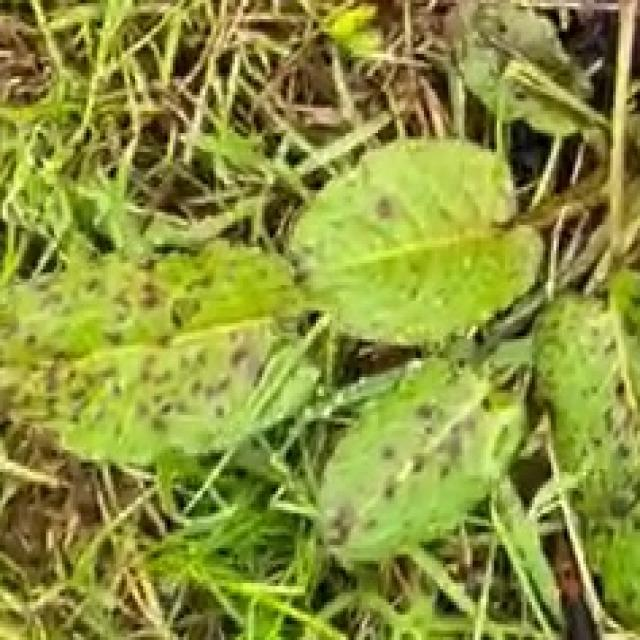organic waste: (0, 45, 640, 598)
